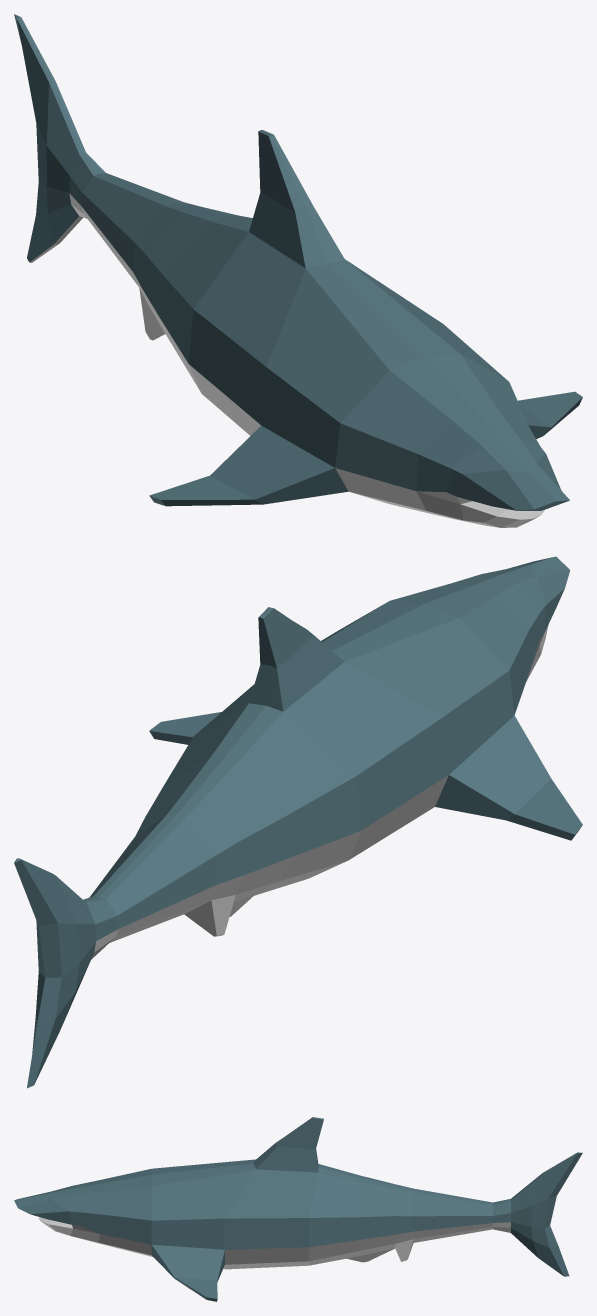
File: shark.fbx
The picture shows the model from 3 angles, top to bottom: view 1: azimuth 30°, elevation 25°; view 2: azimuth 150°, elevation 25°; view 3: azimuth 270°, elevation 25°; orthographic projection. The views are drawn at different scales.
Parts seen in each view (by area): view 1: shark; view 2: shark; view 3: shark.
Part boxes in pixels (left/top/right/bottom): shark: left=14, top=14, right=582, bottom=527; shark: left=14, top=556, right=582, bottom=1088; shark: left=14, top=1117, right=582, bottom=1301.
Bounding box in the file's own units: 4.01 × 2.73 × 8.85.
